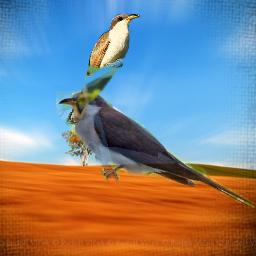Cuckoo: (56, 91, 254, 211), (65, 11, 141, 127)
